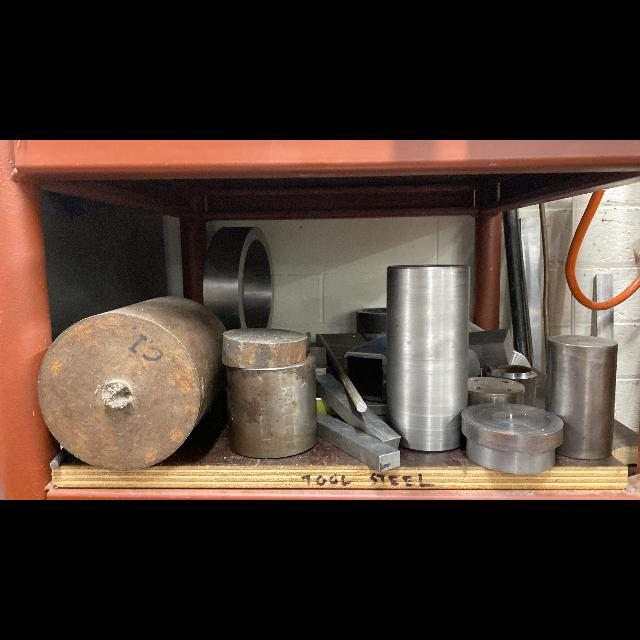Ferrous Metal: (38, 297, 226, 470), (386, 265, 469, 451), (226, 357, 317, 458), (545, 335, 618, 460), (461, 403, 564, 474), (204, 227, 275, 330), (317, 375, 400, 449), (317, 413, 400, 471), (503, 209, 533, 364), (320, 335, 366, 413), (222, 328, 308, 368), (484, 365, 537, 405), (469, 329, 514, 367), (468, 376, 525, 406), (539, 204, 549, 358), (356, 308, 386, 341), (596, 308, 614, 340), (596, 273, 613, 302)
